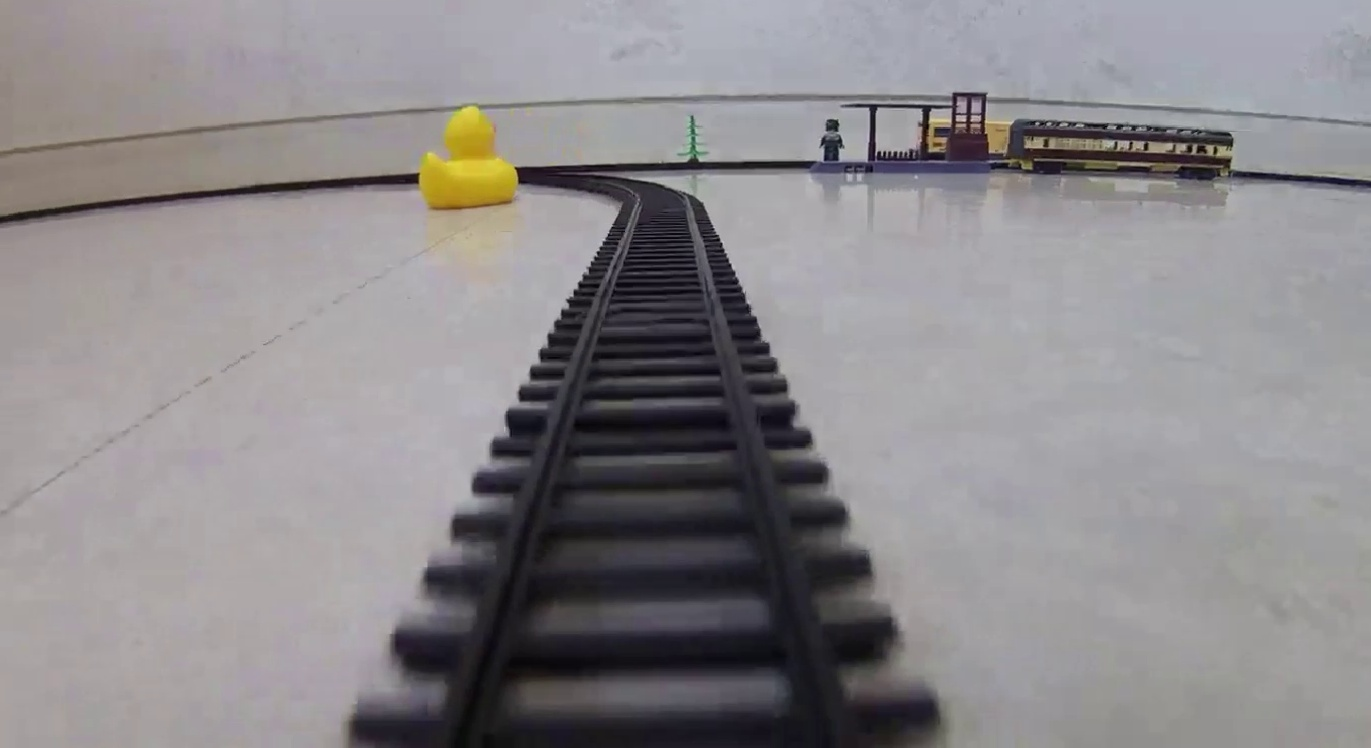people: (816, 117, 846, 163)
